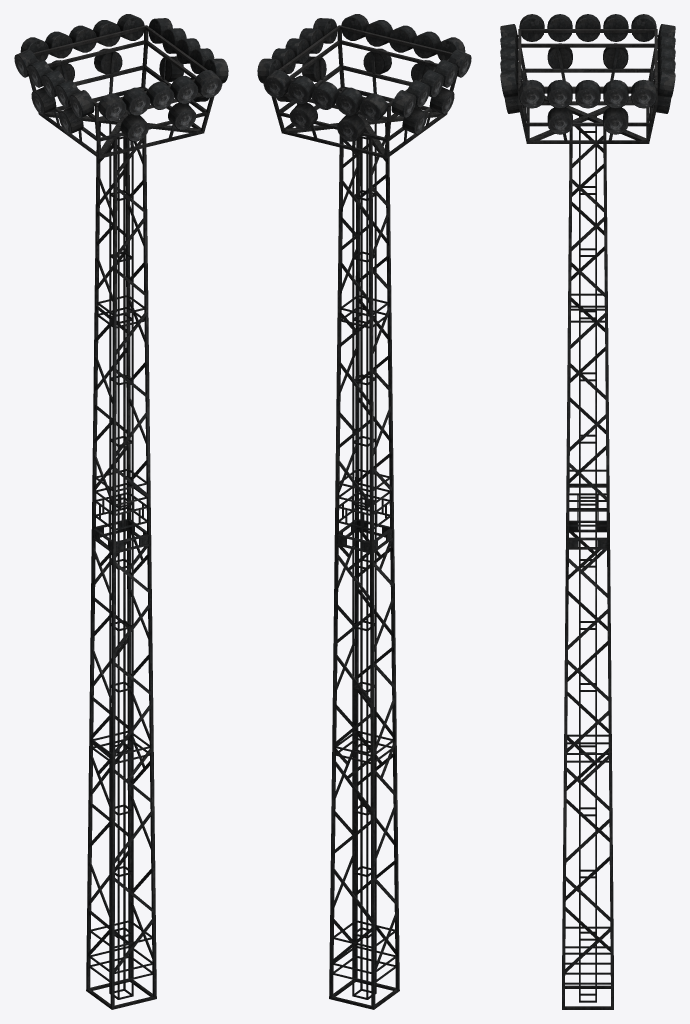
Rendered from LucesEstadio.glb.
The picture shows the model from 3 angles, left to right: view 1: azimuth 30°, elevation 25°; view 2: azimuth 150°, elevation 25°; view 3: azimuth 270°, elevation 25°; orthographic projection.
Visible parts, largest first — view 1: projector mast; view 2: projector mast; view 3: projector mast.
Boxes of the visible parts, x1,y1,x2,y2 form: projector mast: (14, 14, 228, 1009); projector mast: (257, 14, 471, 1009); projector mast: (500, 14, 675, 1009).
Bounding box in the file's own units: 2.34 × 14.03 × 2.34.
1 material, 1 textured.
